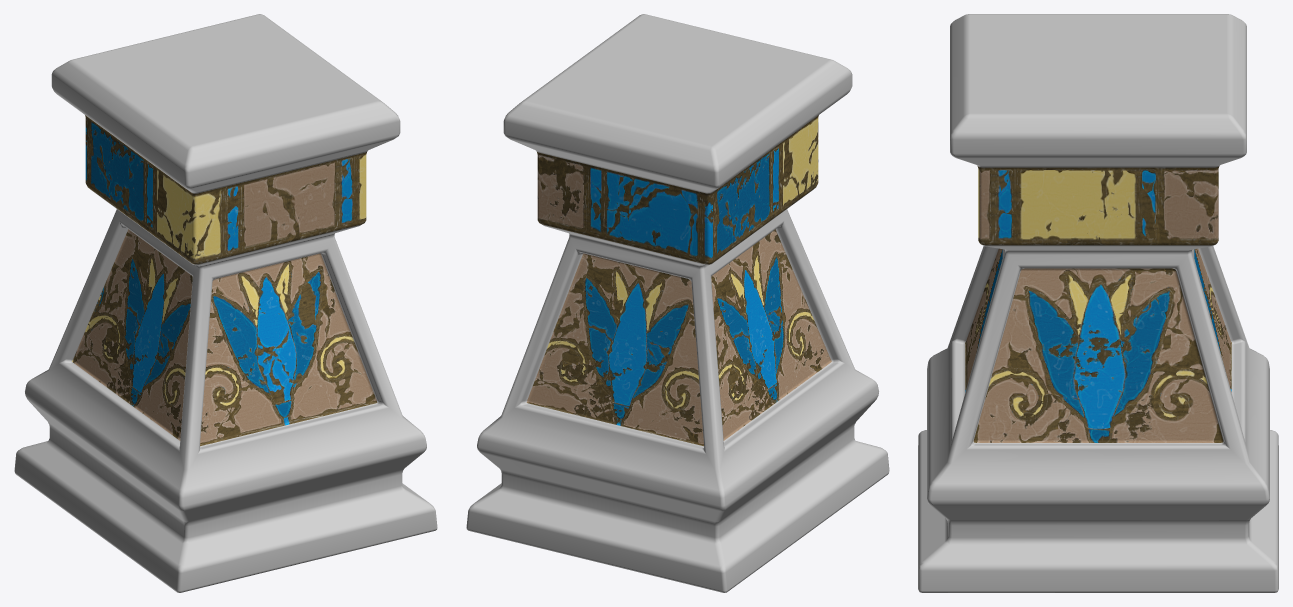
The model's file is SM_Column_End_02.fbx.
3 views of the same model, side by side, from view 1: azimuth 30°, elevation 25°; view 2: azimuth 150°, elevation 25°; view 3: azimuth 270°, elevation 25° (orthographic). The views are drawn at different scales.
Parts seen in each view (by area): view 1: SM_Column_End_02_LOD0; view 2: SM_Column_End_02_LOD0; view 3: SM_Column_End_02_LOD0.
Boxes of the visible parts, x1,y1,x2,y2 form: SM_Column_End_02_LOD0: (14, 14, 437, 592); SM_Column_End_02_LOD0: (466, 14, 889, 592); SM_Column_End_02_LOD0: (918, 14, 1278, 592).
Size of the model in its own units: 162 by 177 by 250.
